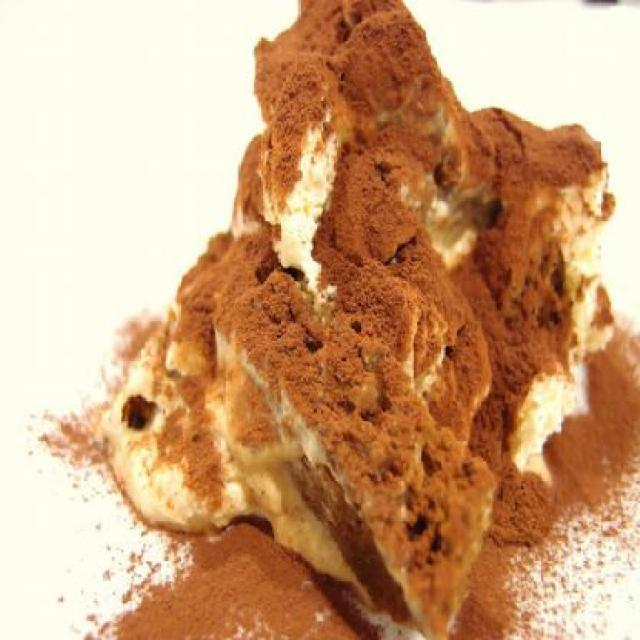Tiramisu: (136, 18, 616, 640)
